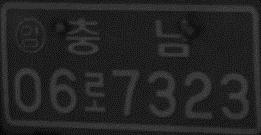0: (13, 67, 43, 114)
2: (183, 70, 213, 120)
3: (219, 72, 251, 121), (146, 70, 177, 120)
6: (48, 67, 78, 115)
7: (111, 67, 141, 117)
로: (82, 71, 108, 112)
영: (14, 17, 47, 55)
충남_D: (66, 18, 189, 58)
